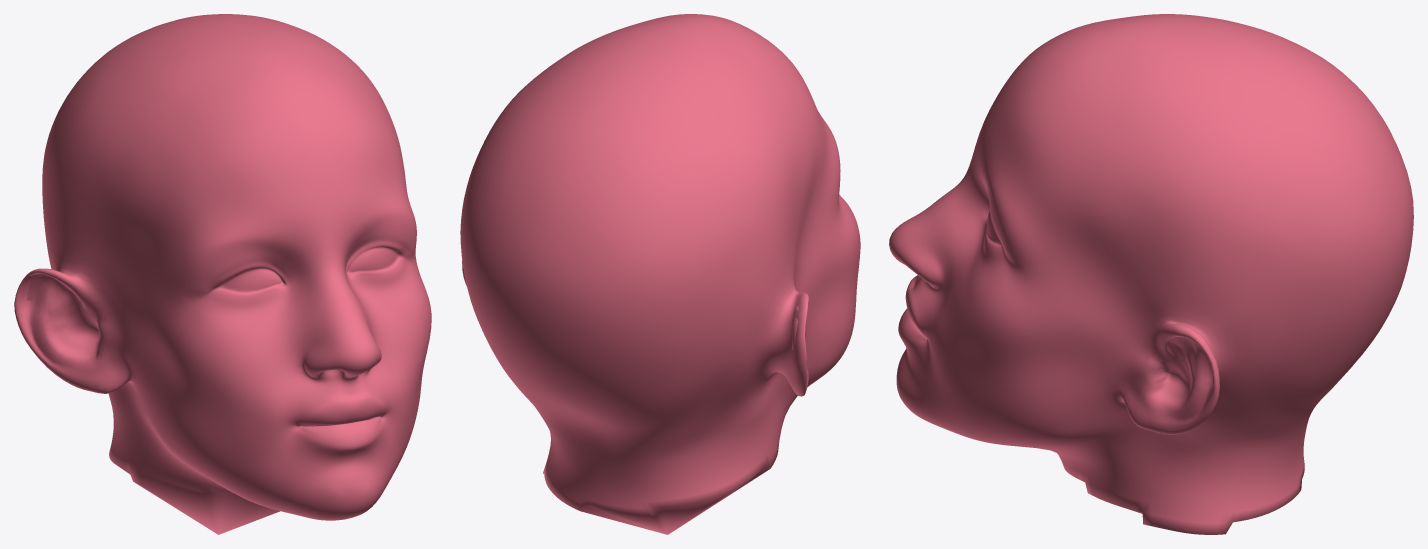
File: pink.gltf
3 views of the same model, side by side, from view 1: azimuth 30°, elevation 25°; view 2: azimuth 150°, elevation 25°; view 3: azimuth 270°, elevation 25° (orthographic). The views are drawn at different scales.
Parts seen in each view (by area): view 1: FaceBuilderHead; view 2: FaceBuilderHead; view 3: FaceBuilderHead.
Boxes of the visible parts, x1=… form: FaceBuilderHead: x1=14, y1=14, x2=431, y2=534; FaceBuilderHead: x1=460, y1=14, x2=860, y2=534; FaceBuilderHead: x1=889, y1=14, x2=1413, y2=534.
Bounding box in the file's own units: 0.4578 × 0.5894 × 0.5519.
